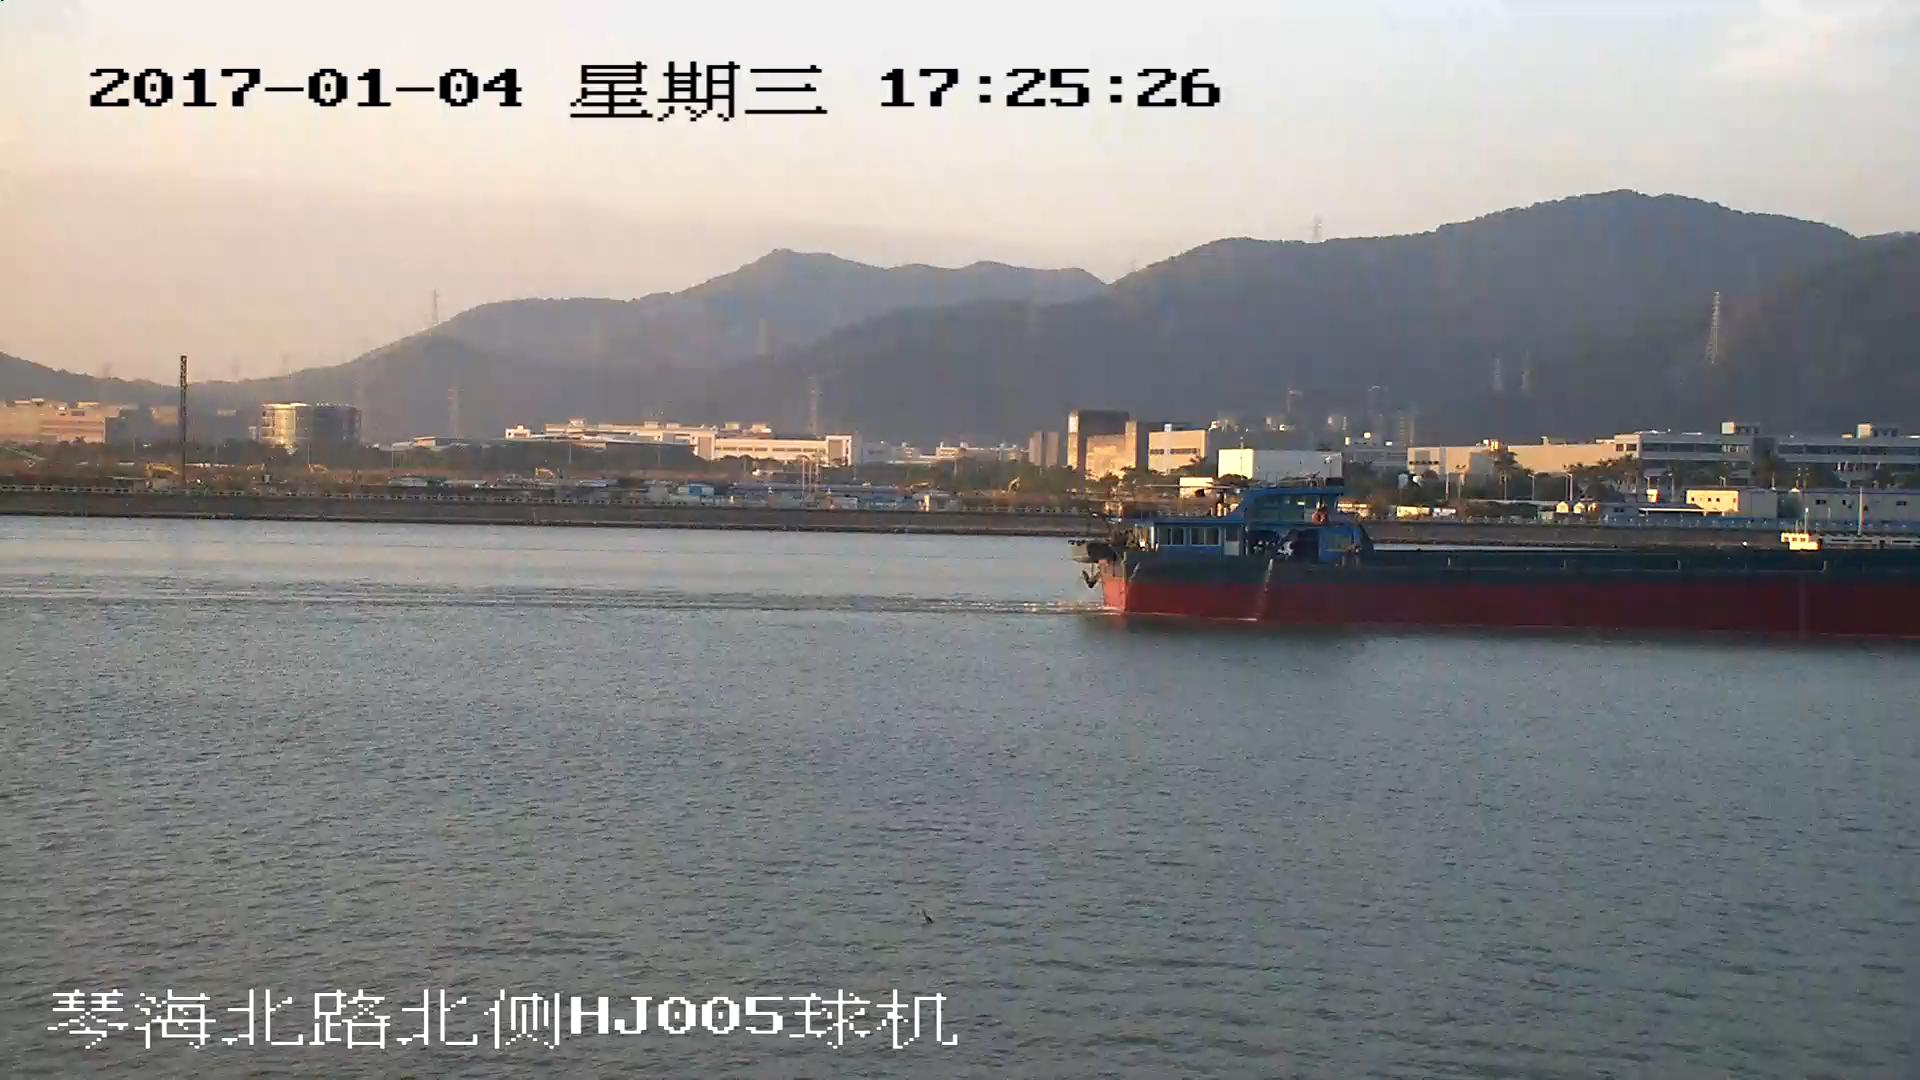general cargo ship: (1070, 490, 1920, 639)
